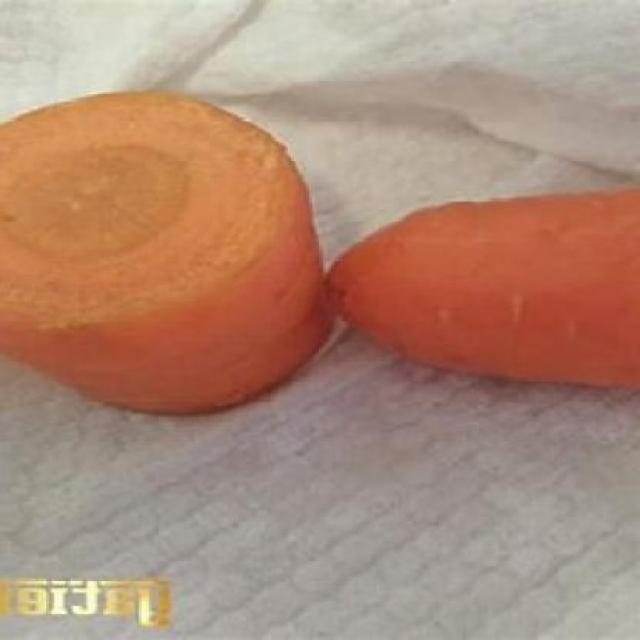carrot: (1, 70, 318, 443), (317, 162, 640, 415)
